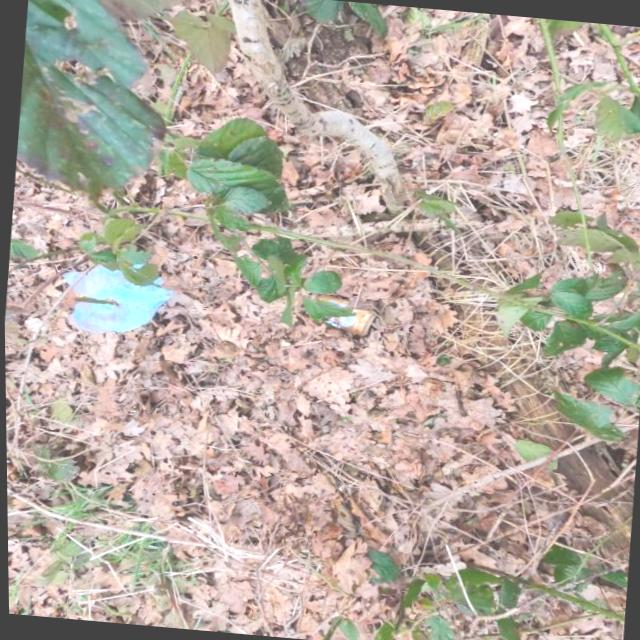Can-Metal: (305, 290, 378, 338)
